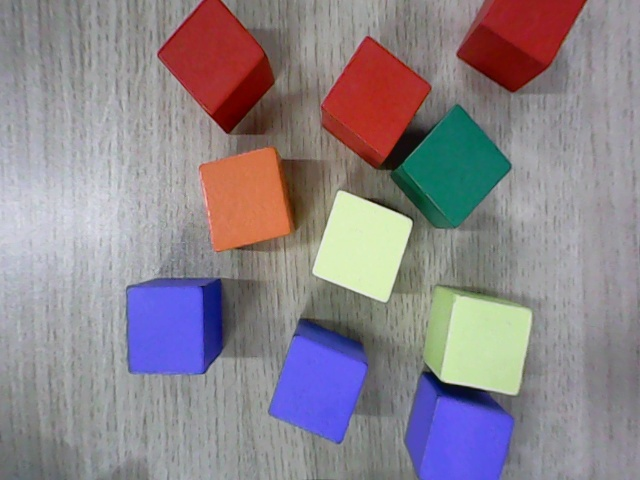upside of small cube: (399, 103, 513, 230), (321, 35, 433, 159), (155, 0, 267, 116), (311, 190, 416, 304), (267, 335, 370, 445), (197, 145, 291, 253), (441, 295, 533, 396), (417, 395, 515, 479), (126, 286, 205, 376), (480, 0, 588, 65)
